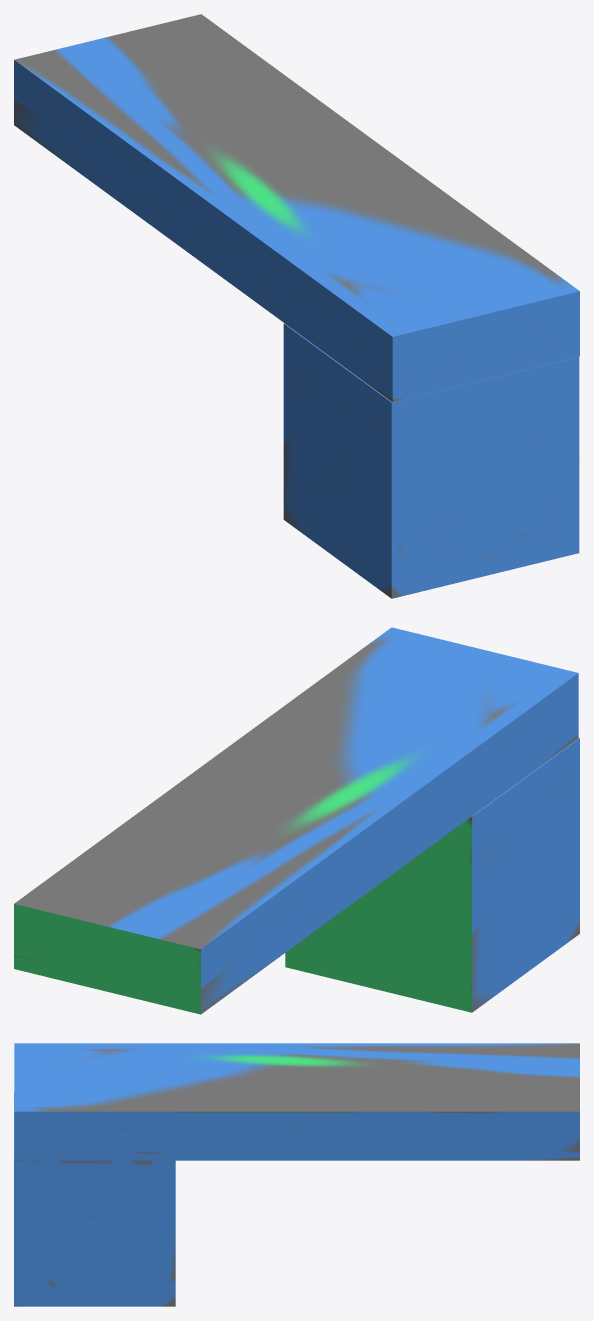
File: prototype.dae
3 views of the same model, one above another, from view 1: azimuth 30°, elevation 25°; view 2: azimuth 150°, elevation 25°; view 3: azimuth 270°, elevation 25° (orthographic). The views are drawn at different scales.
Parts seen in each view (by area): view 1: Cube.002, Cube.001; view 2: Cube.002, Cube.001; view 3: Cube.002, Cube.001.
Part boxes in pixels (<box>): Cube.002: <box>14,14,579,402</box>; Cube.001: <box>283,323,579,598</box>; Cube.002: <box>14,627,578,1014</box>; Cube.001: <box>285,738,579,1012</box>; Cube.002: <box>14,1043,579,1160</box>; Cube.001: <box>14,1092,175,1306</box>.
Bounding box in the file's own units: 0.0604 × 0.2102 × 0.08.
1 material, 1 textured.
